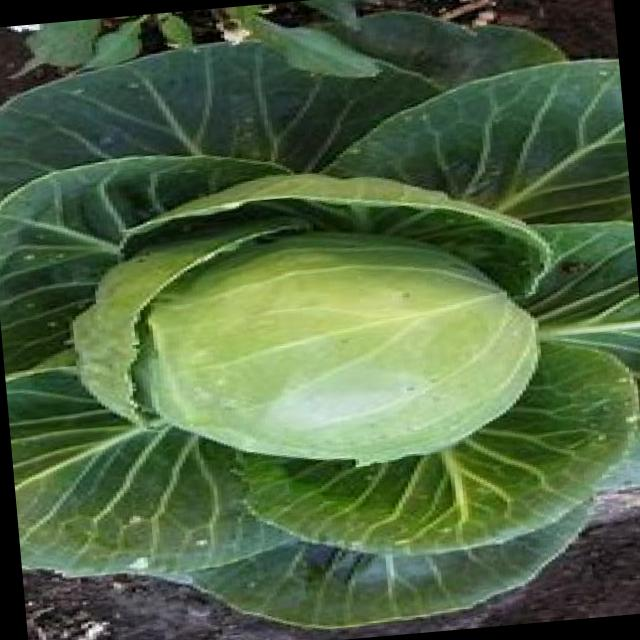cabbage: (128, 218, 550, 478)
